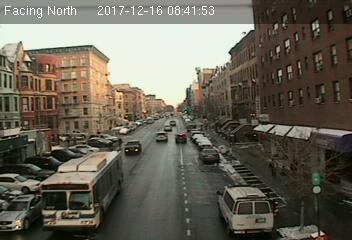bus: (38, 148, 127, 232)
car: (1, 193, 43, 234), (199, 147, 220, 163), (125, 140, 142, 153), (175, 132, 187, 144), (155, 131, 168, 141)
police: (215, 181, 275, 236)
